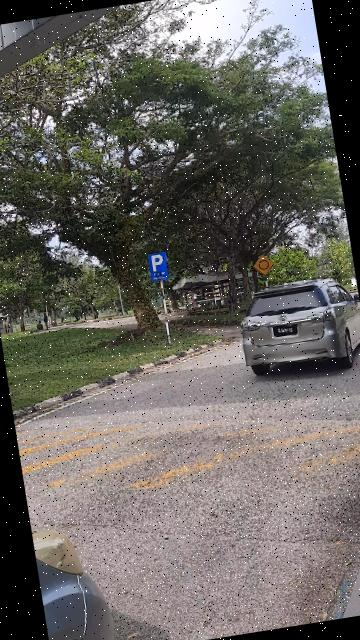License_Plate: (272, 321, 300, 340)
car: (234, 275, 360, 384)
